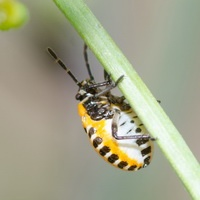insect: (47, 46, 154, 170)
